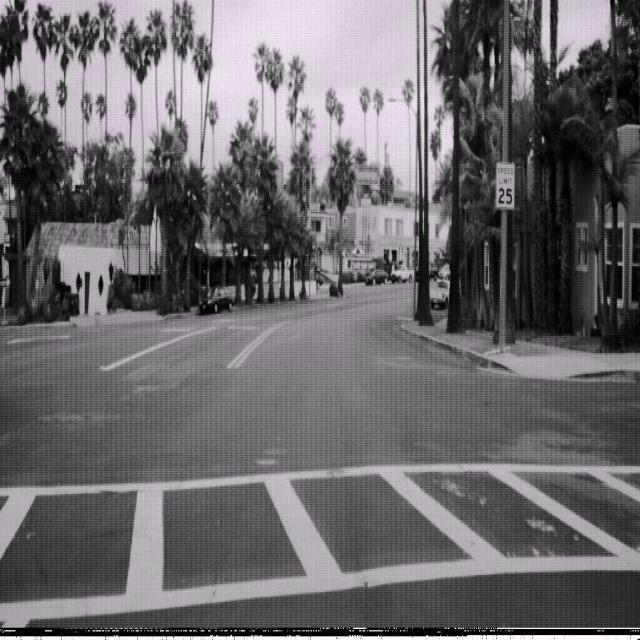speedLimit25: (494, 160, 515, 211)
